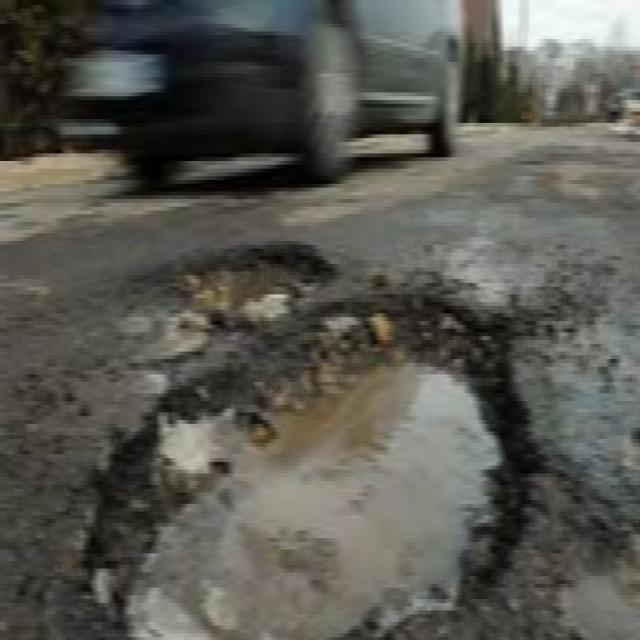Pothole: (76, 304, 564, 640), (133, 233, 344, 329)
